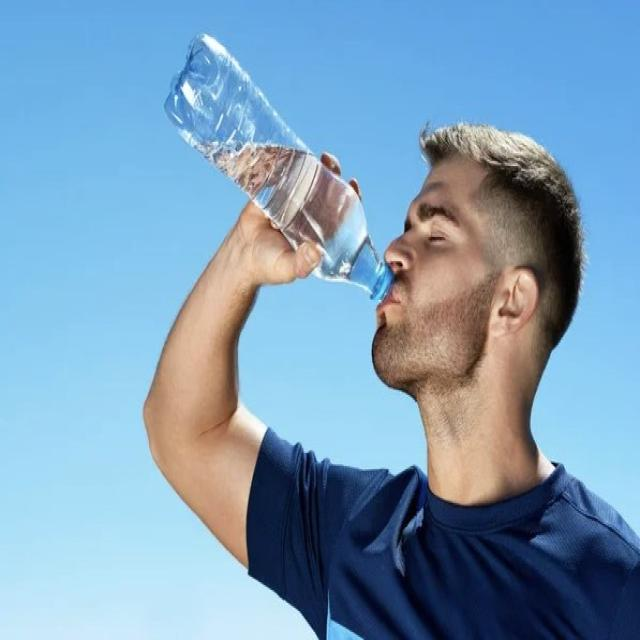eating-person: (137, 18, 640, 640)
